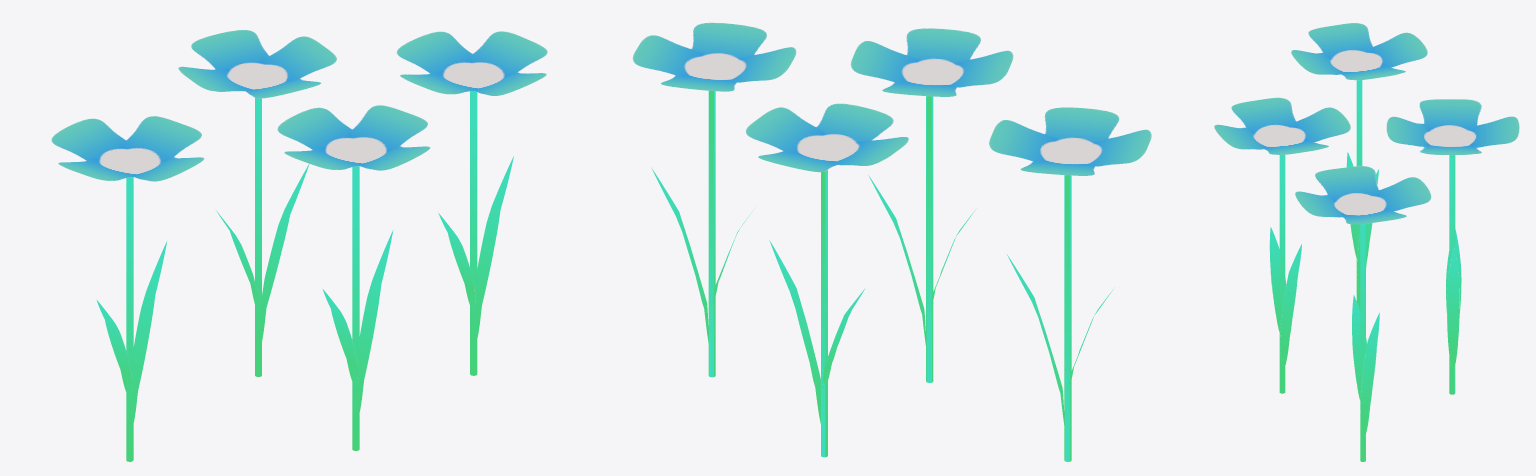
Rendered from Flowers_n03_25.fbx.
The picture shows the model from 3 angles, left to right: view 1: azimuth 30°, elevation 25°; view 2: azimuth 150°, elevation 25°; view 3: azimuth 270°, elevation 25°; orthographic projection. The views are drawn at different scales.
Parts seen in each view (by area): view 1: polySurface671; view 2: polySurface671; view 3: polySurface671.
Boxes of the visible parts, x1,y1,x2,y2 form: polySurface671: (51, 30, 547, 461); polySurface671: (632, 22, 1151, 461); polySurface671: (1214, 23, 1519, 461).
Bounding box in the file's own units: 43.61 × 24.78 × 27.81.
1 material, 1 textured.
